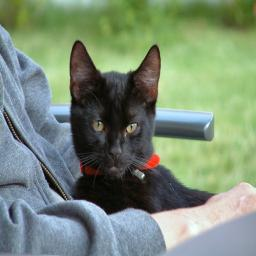catnose: (107, 139, 125, 163)
